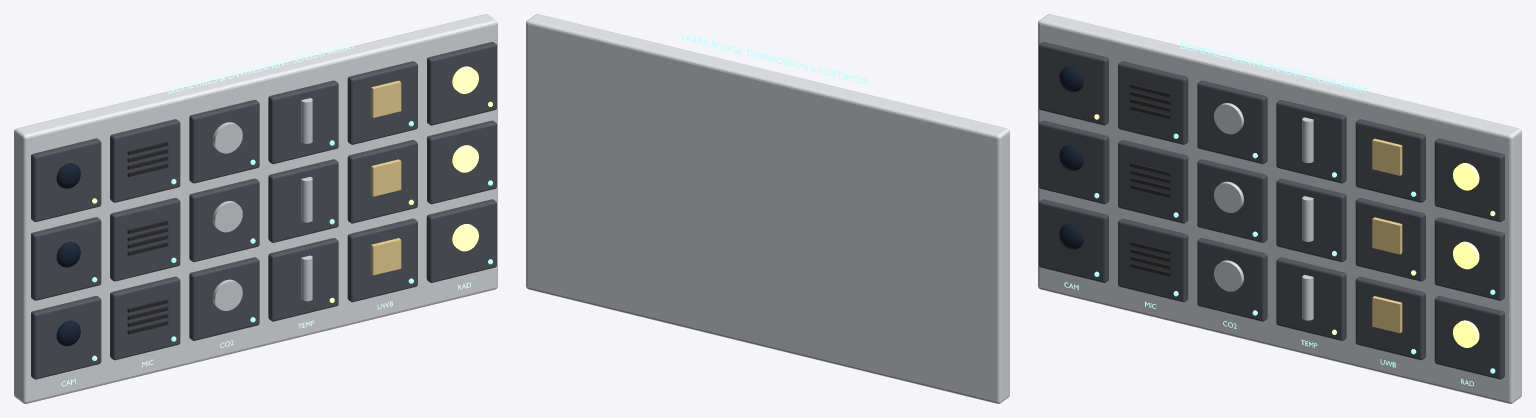
The model's file is sensor_wall.glb.
The picture shows the model from 3 angles, left to right: view 1: azimuth 30°, elevation 25°; view 2: azimuth 150°, elevation 25°; view 3: azimuth 330°, elevation 25°; orthographic projection.
Visible parts, largest first — view 1: Array_Backplate, Cube.001 (×6), Cube.023 (×6), Dosimeter, Array_Title; view 2: Array_Backplate, Array_Title; view 3: Array_Backplate, Cube.001 (×6), Cube.023 (×6), Dosimeter, Array_Title.
Boxes of the visible parts, box(x1,y1,x2,y2) form: Array_Backplate: box(14, 14, 497, 403); Cube.001 (×6): box(31, 42, 496, 360); Cube.023 (×6): box(31, 61, 417, 379); Dosimeter: box(92, 66, 492, 302); Array_Title: box(61, 42, 470, 386); Array_Backplate: box(526, 14, 1009, 403); Array_Title: box(680, 33, 866, 84); Array_Backplate: box(1038, 14, 1521, 403); Cube.001 (×6): box(1039, 42, 1504, 302); Cube.023 (×6): box(1039, 80, 1425, 340); Dosimeter: box(1094, 114, 1495, 347); Array_Title: box(1064, 42, 1473, 386).
Size of the model in its own units: 2.4 by 1.37 by 0.1759.
Materials: 4 (4 with a texture image).
